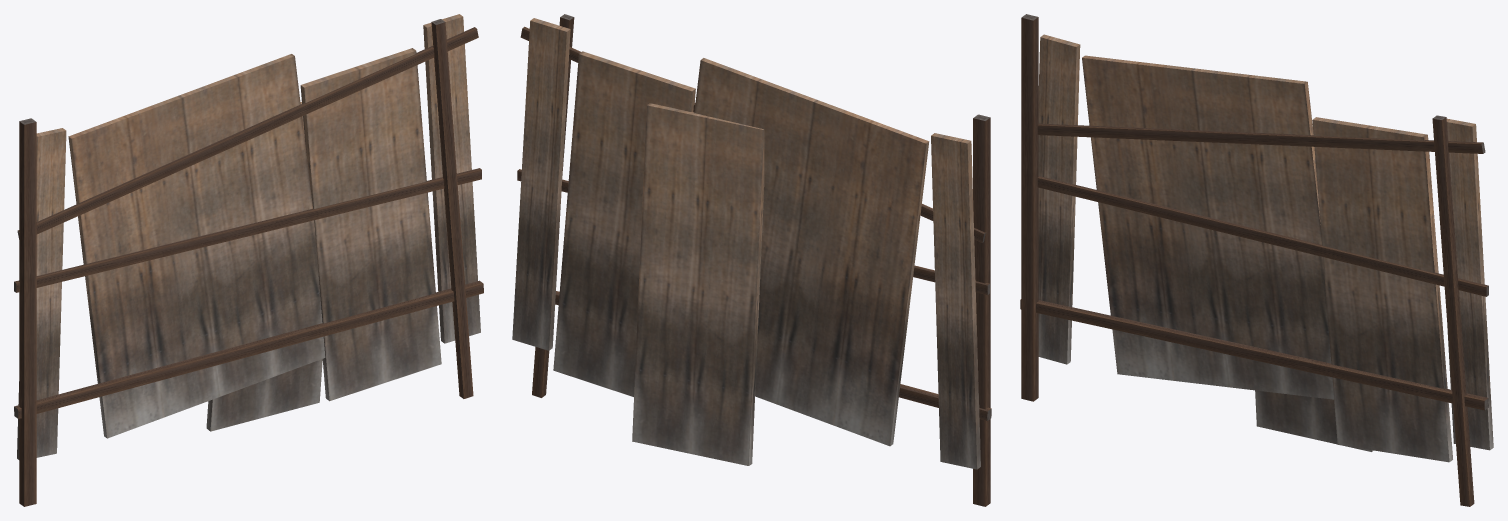
Rendered from fence01c_1t.fbx.
3 views of the same model, side by side, from view 1: azimuth 30°, elevation 25°; view 2: azimuth 150°, elevation 25°; view 3: azimuth 330°, elevation 25° (orthographic).
Visible parts, largest first — view 1: fence01c_1t; view 2: fence01c_1t; view 3: fence01c_1t.
Boxes of the visible parts, bbox=[...] form: fence01c_1t: bbox=[14, 14, 483, 506]; fence01c_1t: bbox=[512, 14, 991, 506]; fence01c_1t: bbox=[1020, 14, 1493, 506].
Bounding box in the file's own units: 228 × 178 × 26.85.
